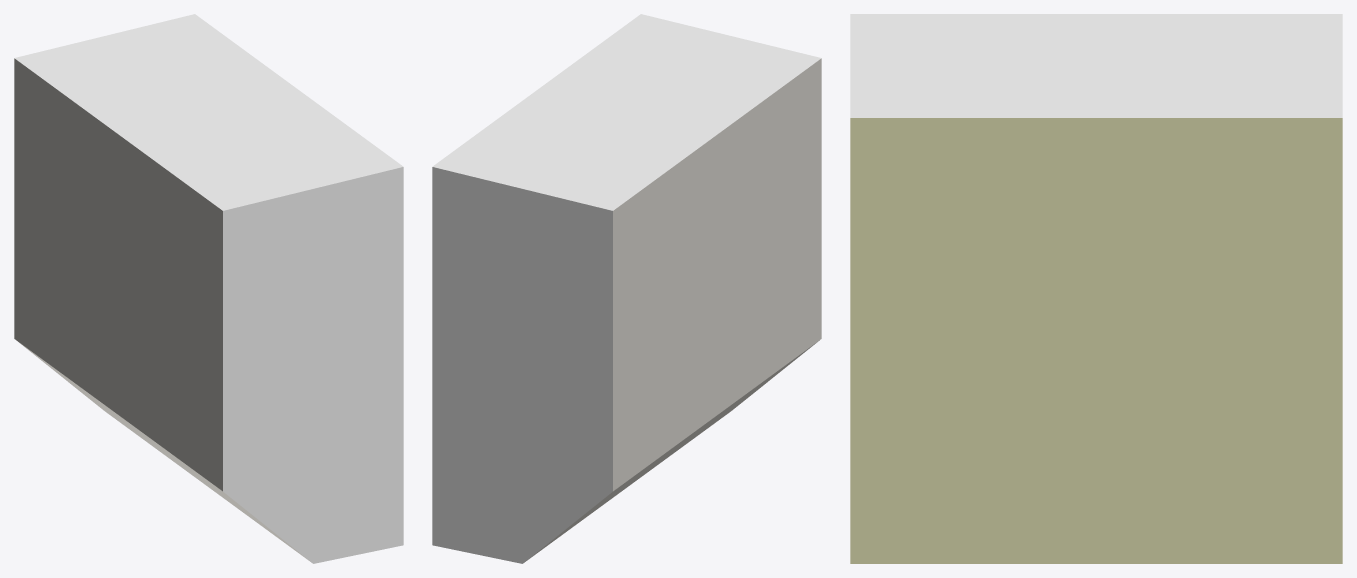
The model's file is Cave_Center_Top_1x1.glb.
The picture shows the model from 3 angles, left to right: view 1: azimuth 30°, elevation 25°; view 2: azimuth 150°, elevation 25°; view 3: azimuth 270°, elevation 25°; orthographic projection. The views are drawn at different scales.
Parts seen in each view (by area): view 1: Cave_Center_Top_1x1; view 2: Cave_Center_Top_1x1; view 3: Cave_Center_Top_1x1.
Part boxes in pixels (bbox=[...]): Cave_Center_Top_1x1: bbox=[14, 14, 403, 563]; Cave_Center_Top_1x1: bbox=[432, 14, 821, 563]; Cave_Center_Top_1x1: bbox=[850, 14, 1342, 563].
Size of the model in its own units: 50 by 100 by 100.
